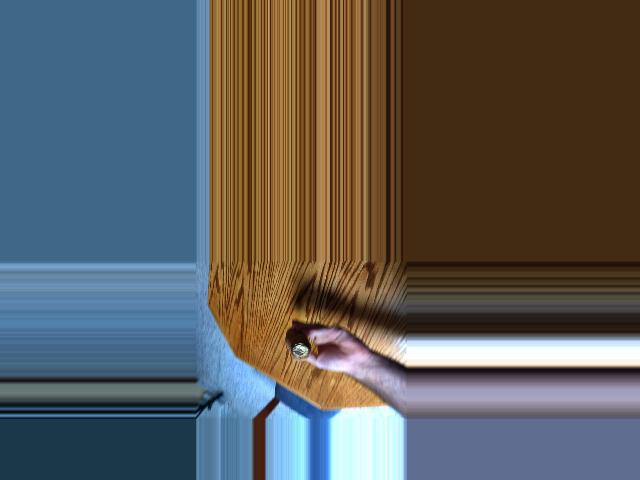sweet_potato: (281, 326, 319, 365)
